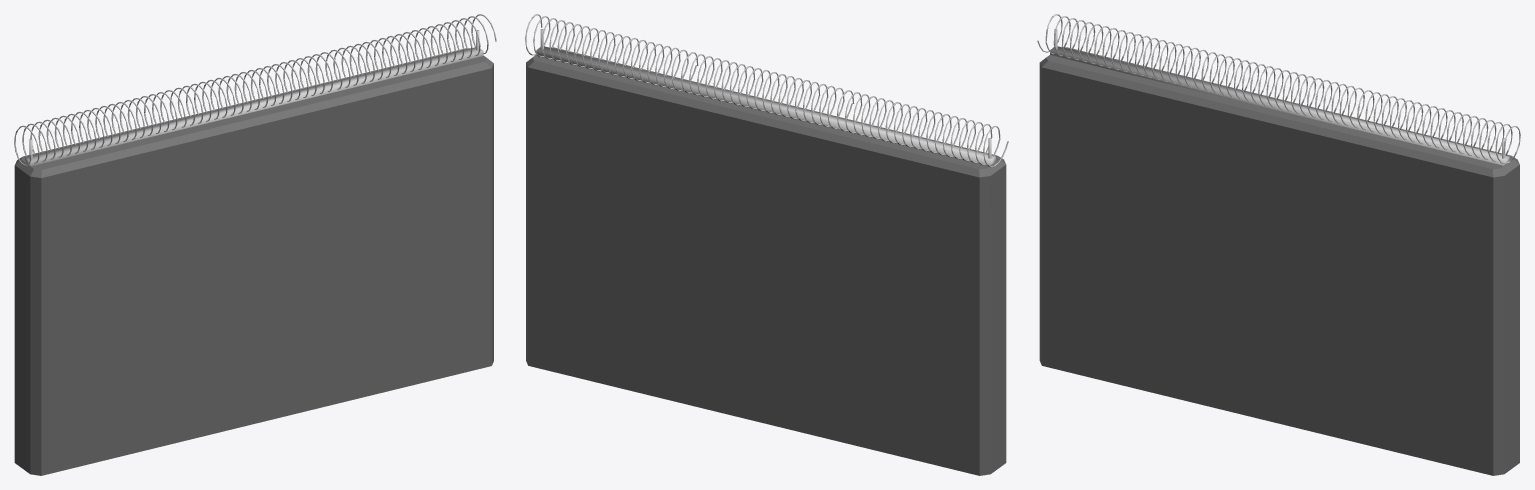
File: Concrete fence.fbx
3 renders of one model, left to right at view 1: azimuth 30°, elevation 25°; view 2: azimuth 150°, elevation 25°; view 3: azimuth 330°, elevation 25°, orthographic.
Parts seen in each view (by area): view 1: Concrete fenceconcrete fence; view 2: Concrete fenceconcrete fence; view 3: Concrete fenceconcrete fence.
Part boxes in pixels (left/top/right/bottom): Concrete fenceconcrete fence: left=14, top=14, right=496, bottom=475; Concrete fenceconcrete fence: left=525, top=14, right=1008, bottom=475; Concrete fenceconcrete fence: left=1037, top=14, right=1520, bottom=475.
Size of the model in its own units: 614 by 427 by 55.61.
